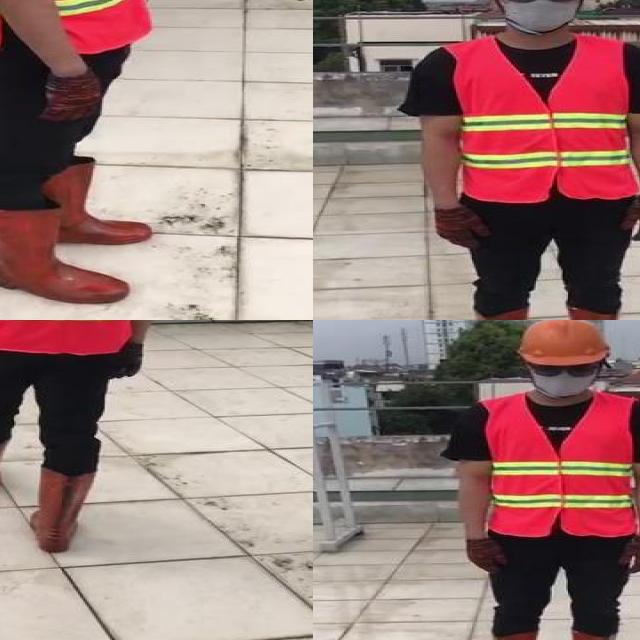boots: (0, 205, 130, 305), (29, 161, 153, 245), (27, 465, 101, 553)
face_mask: (496, 0, 585, 36), (530, 356, 599, 396)
glasses: (524, 358, 598, 380), (493, 0, 582, 6)
hand_glove: (36, 74, 106, 121), (431, 208, 492, 252), (465, 538, 511, 573), (112, 344, 144, 378), (616, 536, 640, 575), (624, 200, 640, 243)
head_helmet: (517, 320, 613, 367)
person: (407, 0, 640, 320), (449, 320, 640, 640), (0, 0, 172, 320), (0, 320, 181, 557)
vest: (444, 41, 636, 202), (488, 393, 639, 538)
